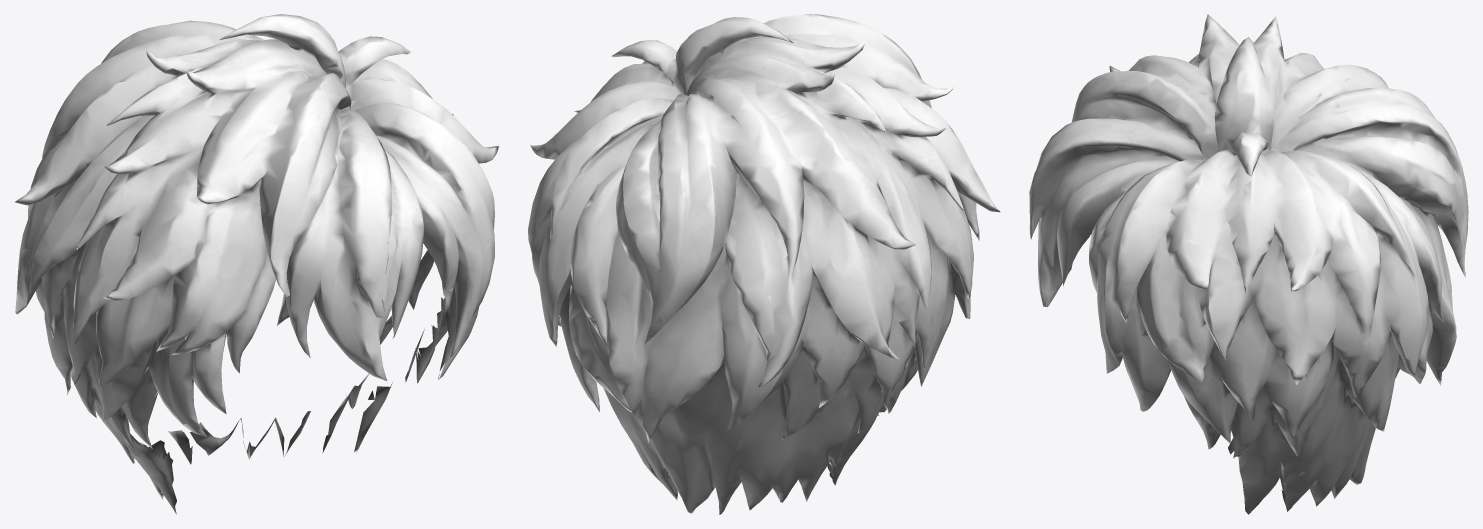
File: hair-short.glb
The picture shows the model from 3 angles, left to right: view 1: azimuth 30°, elevation 25°; view 2: azimuth 150°, elevation 25°; view 3: azimuth 270°, elevation 25°; orthographic projection. The views are drawn at different scales.
Visible parts, largest first — view 1: tripo_node_96dc8014-df7a-4ad8-a4d4-58cad9bcb718; view 2: tripo_node_96dc8014-df7a-4ad8-a4d4-58cad9bcb718; view 3: tripo_node_96dc8014-df7a-4ad8-a4d4-58cad9bcb718.
Part boxes in pixels (bbox=[...]): tripo_node_96dc8014-df7a-4ad8-a4d4-58cad9bcb718: bbox=[15, 14, 499, 514]; tripo_node_96dc8014-df7a-4ad8-a4d4-58cad9bcb718: bbox=[528, 14, 1000, 514]; tripo_node_96dc8014-df7a-4ad8-a4d4-58cad9bcb718: bbox=[1029, 14, 1468, 514].
Size of the model in its own units: 0.2518 by 0.2746 by 0.248.
Materials: 1 (1 with a texture image).
